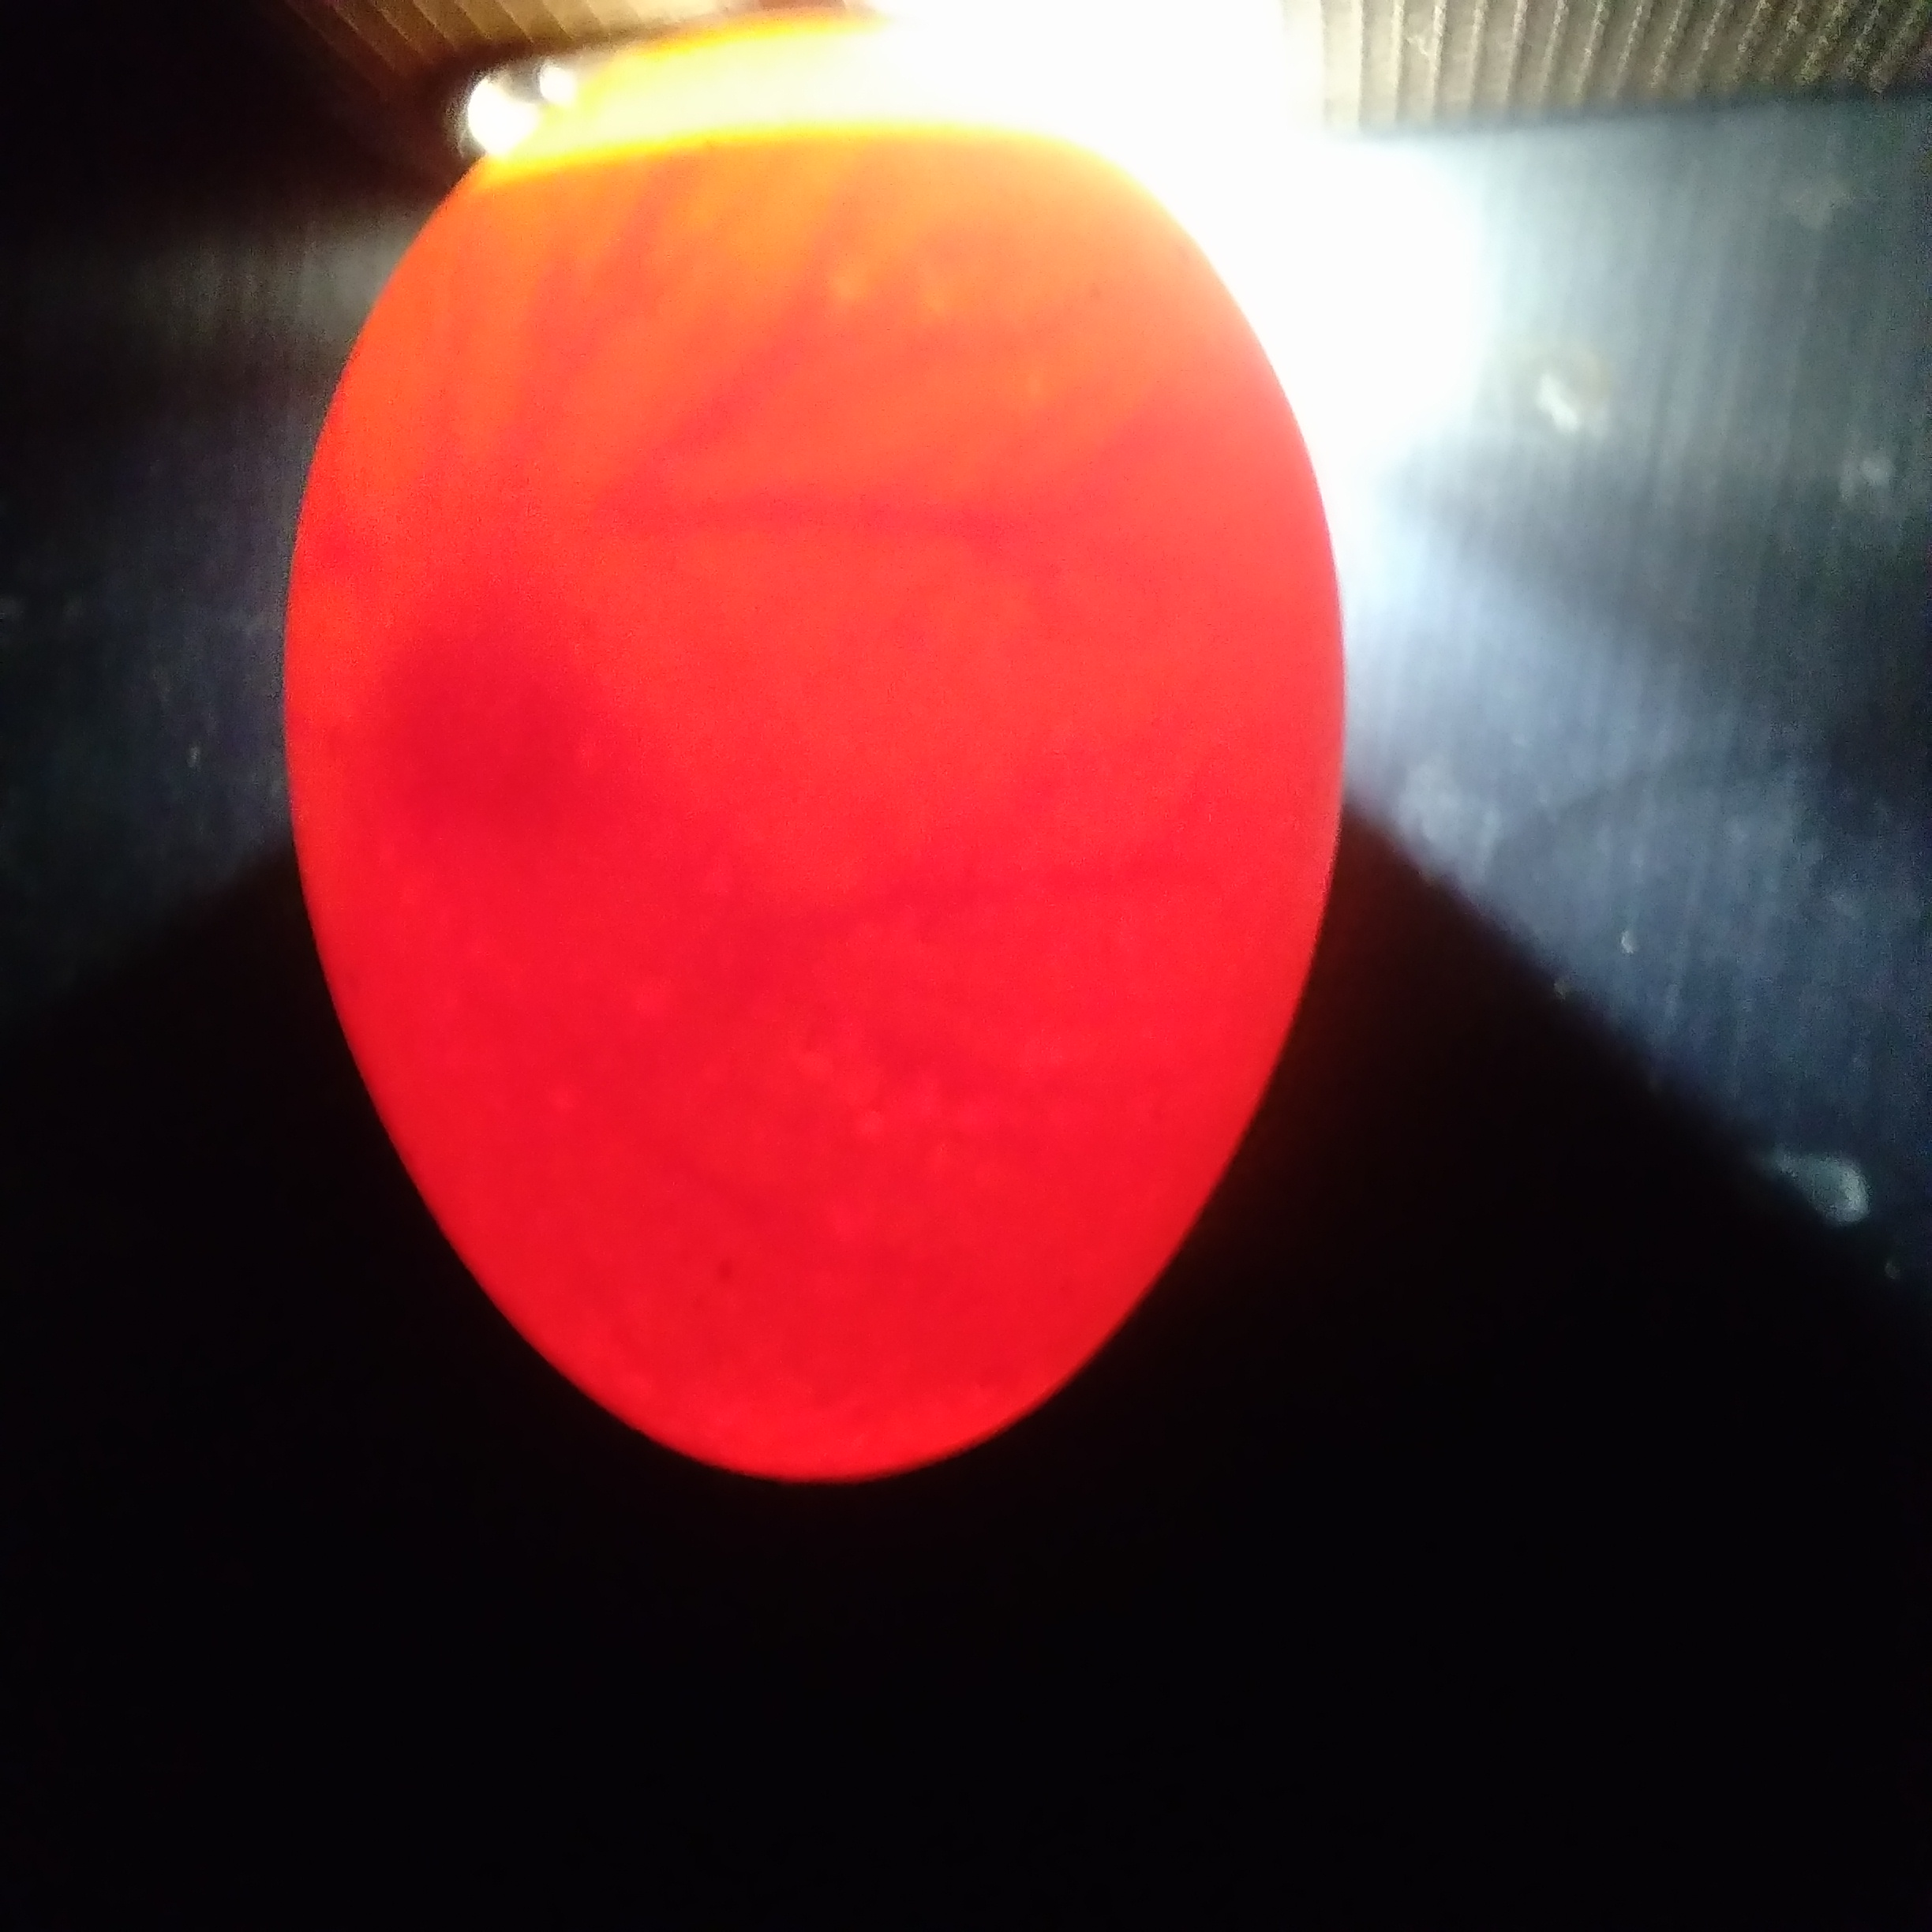bloodcell: (483, 200, 1164, 570)
embryo: (370, 609, 584, 816)
